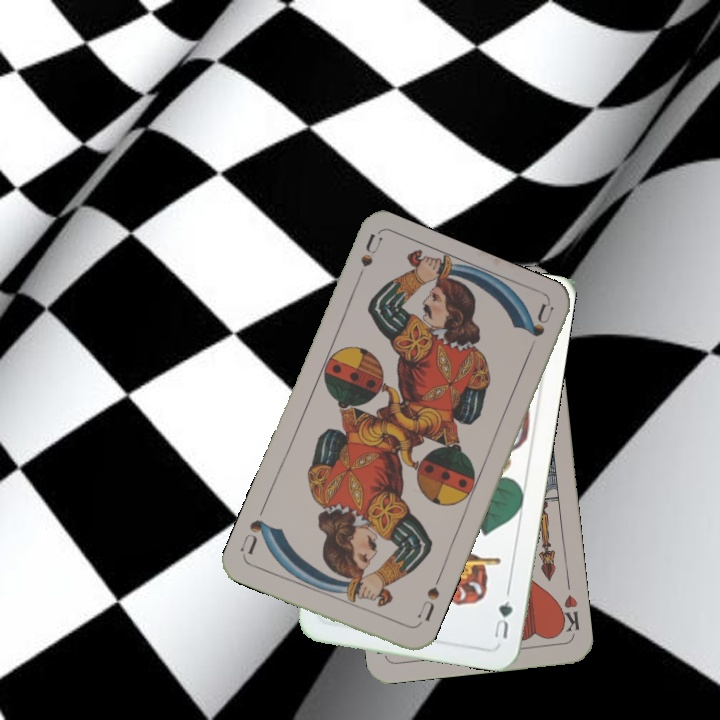GU: (490, 586, 515, 641)
HK: (553, 590, 582, 638)
SU: (350, 231, 386, 289), (412, 582, 442, 629)
